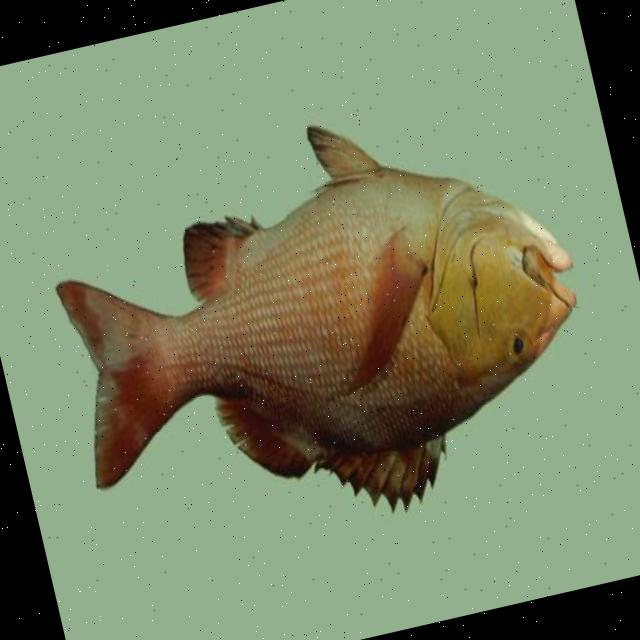ikan: (28, 74, 620, 582)
